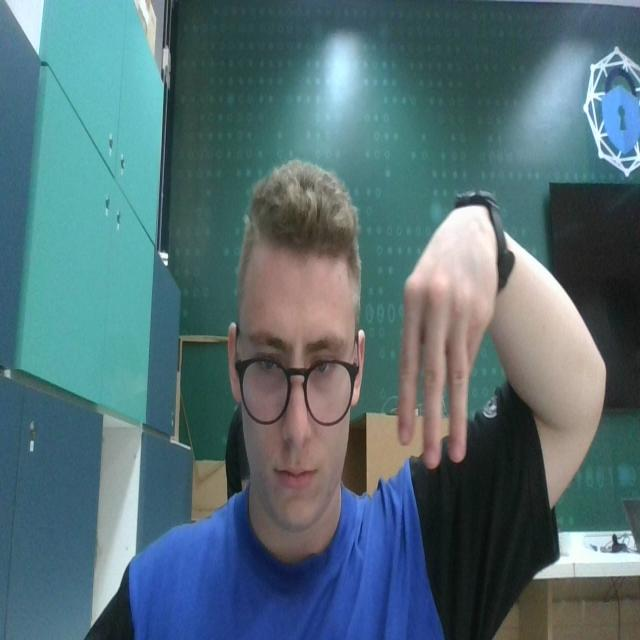M: (394, 204, 497, 476)
